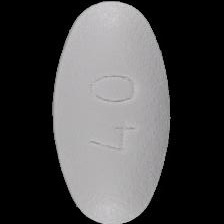67544-247: (0, 0, 224, 224)
